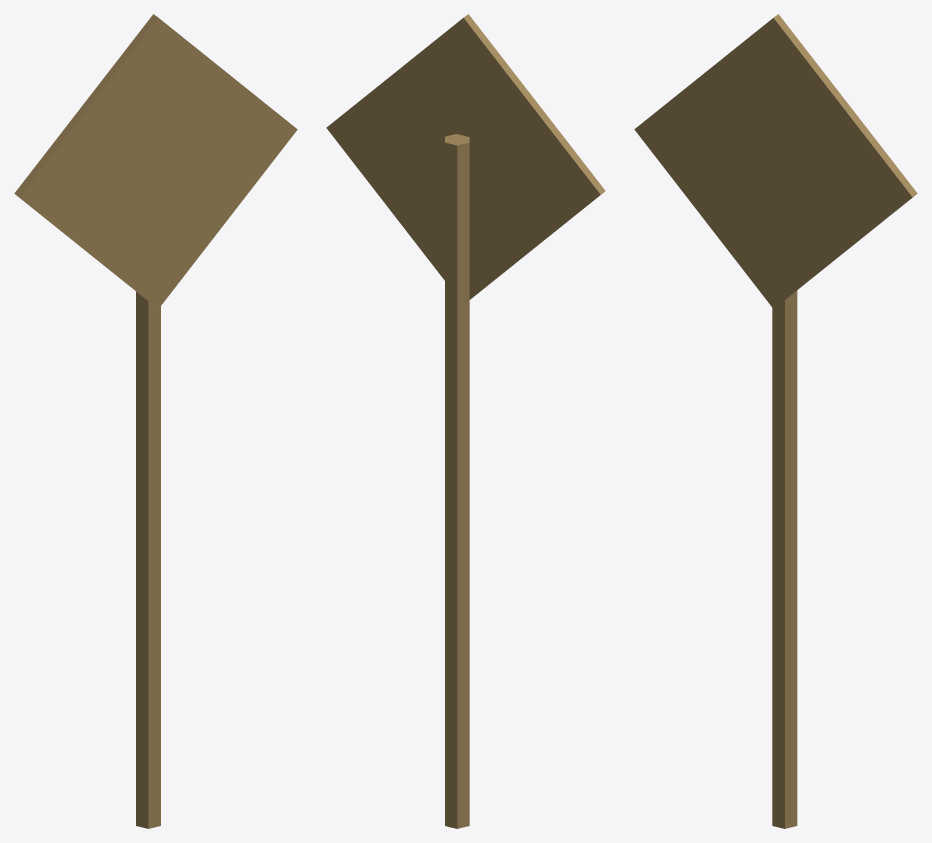
File: Road_Sign_Closed.fbx
3 views of the same model, side by side, from view 1: azimuth 30°, elevation 25°; view 2: azimuth 150°, elevation 25°; view 3: azimuth 330°, elevation 25° (orthographic).
Parts seen in each view (by area): view 1: Road_Sign_Closed; view 2: Road_Sign_Closed; view 3: Road_Sign_Closed.
Boxes of the visible parts, bbox=[...] form: Road_Sign_Closed: bbox=[14, 14, 297, 828]; Road_Sign_Closed: bbox=[326, 14, 605, 828]; Road_Sign_Closed: bbox=[634, 14, 917, 828].
Size of the model in its own units: 34.94 by 97.52 by 3.69.
